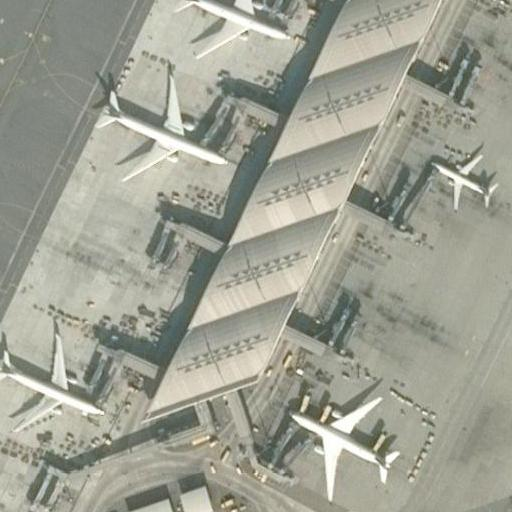Aircraft: (89, 72, 237, 183), (286, 385, 402, 499), (0, 323, 108, 431), (169, 0, 299, 64), (424, 143, 497, 213)
